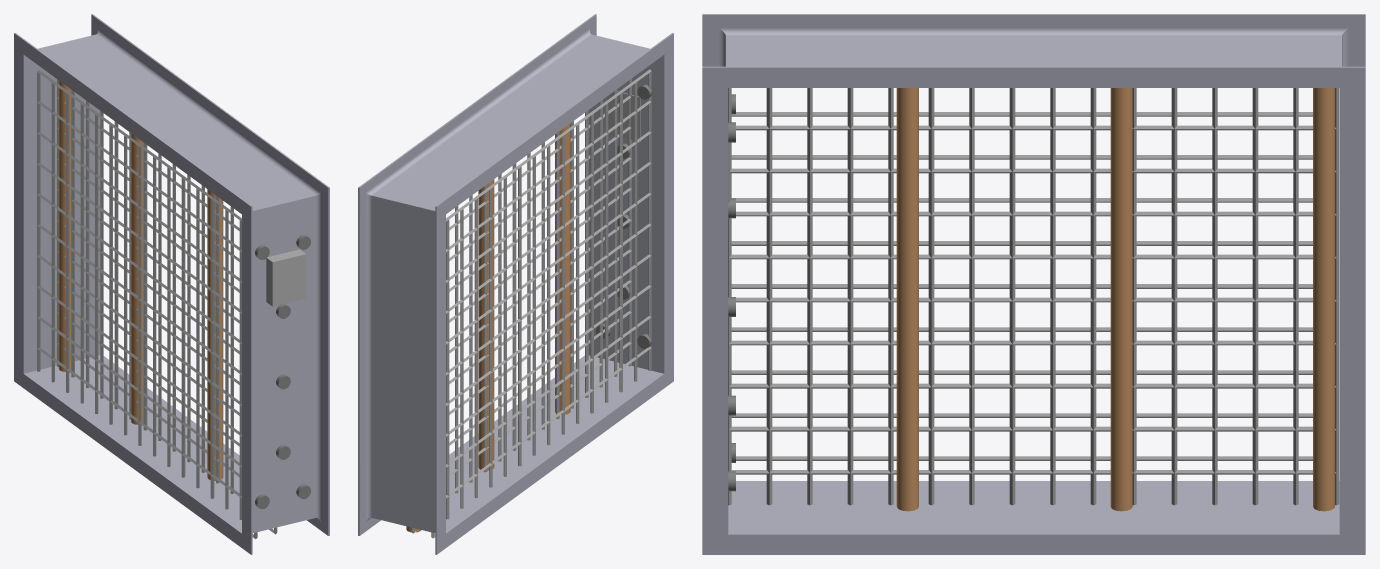
Rendered from FILTER.glb.
The picture shows the model from 3 angles, left to right: view 1: azimuth 30°, elevation 25°; view 2: azimuth 150°, elevation 25°; view 3: azimuth 270°, elevation 25°; orthographic projection. The views are drawn at different scales.
Visible parts, largest first — view 1: FILTER-BODY, NET; view 2: FILTER-BODY, NET; view 3: FILTER-BODY, NET.
Part boxes in pixels (x1,y1,x2,y2): FILTER-BODY: (14, 14, 329, 554); NET: (37, 70, 277, 539); FILTER-BODY: (358, 14, 673, 554); NET: (411, 69, 651, 538); FILTER-BODY: (702, 14, 1365, 554); NET: (728, 88, 1339, 505).
Size of the model in its own units: 0.2287 by 0.9688 by 1.2.
